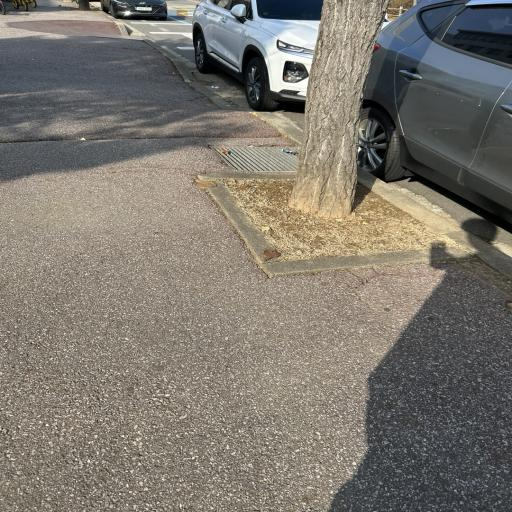drain: (210, 146, 299, 174)
